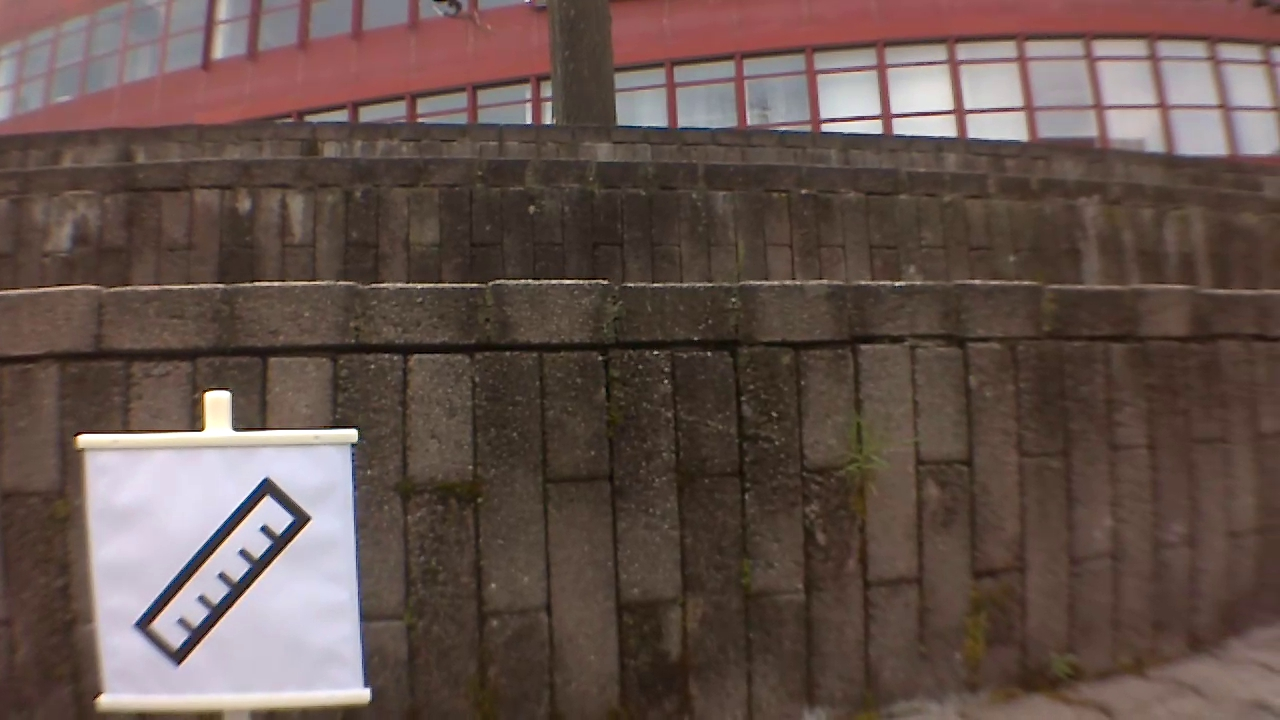ruler: (133, 471, 319, 672)
